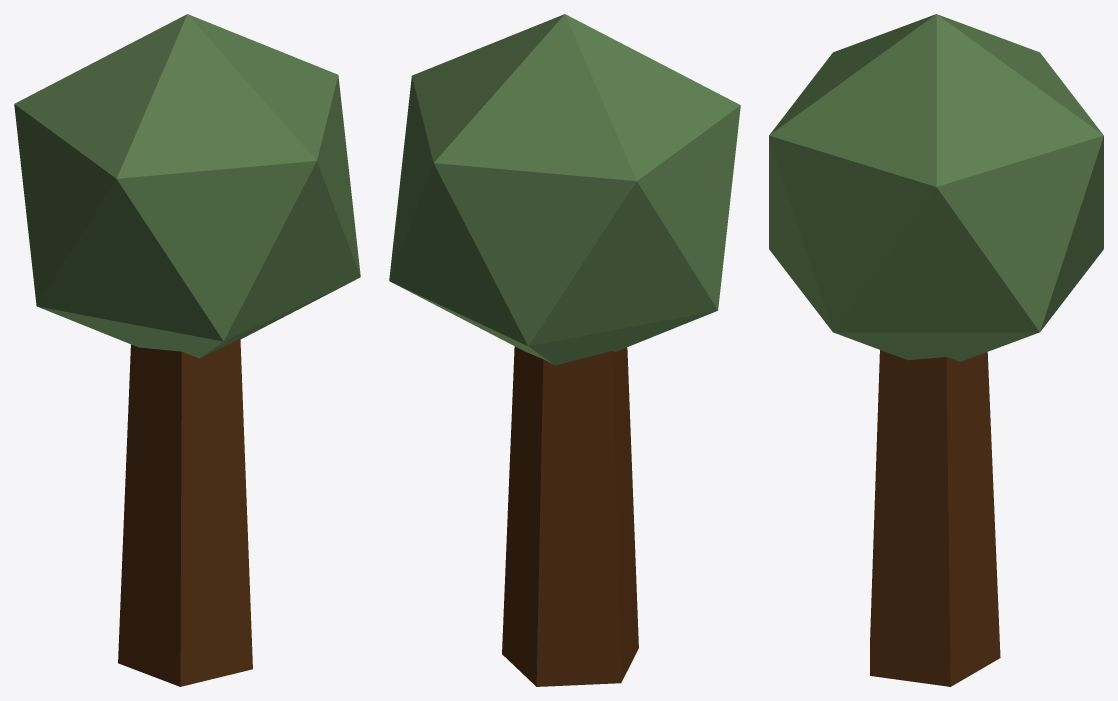
File: tree.fbx
3 views of the same model, side by side, from view 1: azimuth 30°, elevation 25°; view 2: azimuth 150°, elevation 25°; view 3: azimuth 270°, elevation 25° (orthographic).
Parts seen in each view (by area): view 1: Icosphere; view 2: Icosphere; view 3: Icosphere.
Part boxes in pixels (x1,y1,x2,y2): Icosphere: [14, 14, 360, 686]; Icosphere: [389, 14, 740, 686]; Icosphere: [769, 14, 1103, 686].
Size of the model in its own units: 372 by 753 by 354.
